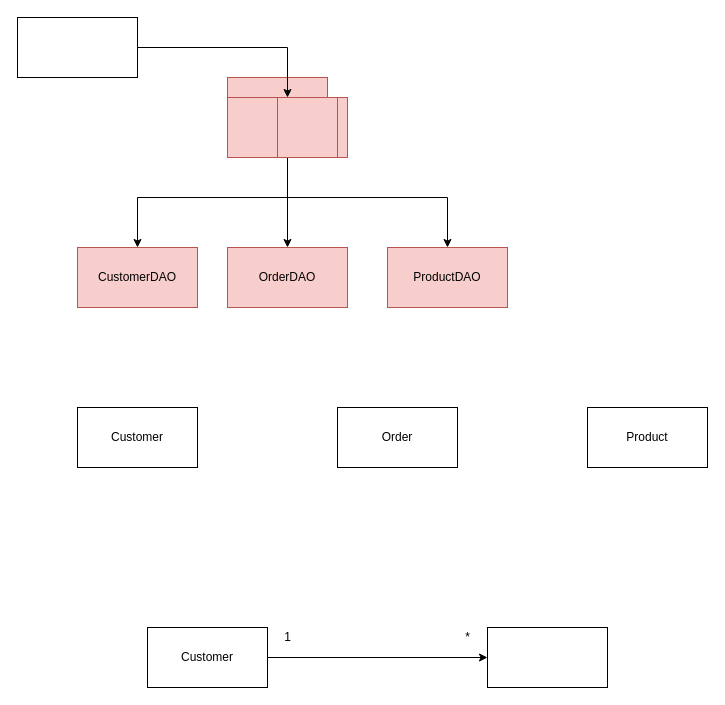
The diagram is 725 pixels wide and 705 high, and some of its shapes have lost their labels. The shapes that lost their labels are listed below. From the top down, each one's centre as x and y in pixels, then its label:
At (77,47): "GenericInterface<T> to define the set of requirements".
At (277,87): "GenericDAO<T>".
At (307,127): "save() find() findAll() delete()".
At (547,657): "Address".
